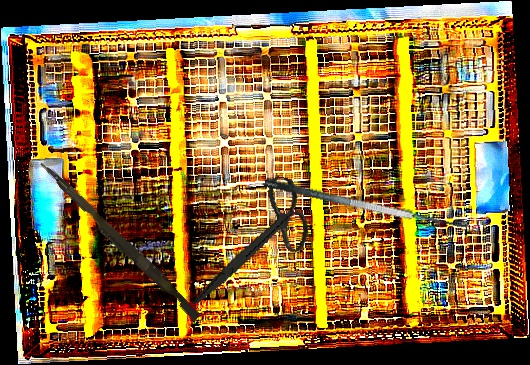Iris Scissors: (191, 164, 319, 324)
Pusher: (33, 160, 205, 322)
Spatula Surgical: (263, 160, 472, 238)
